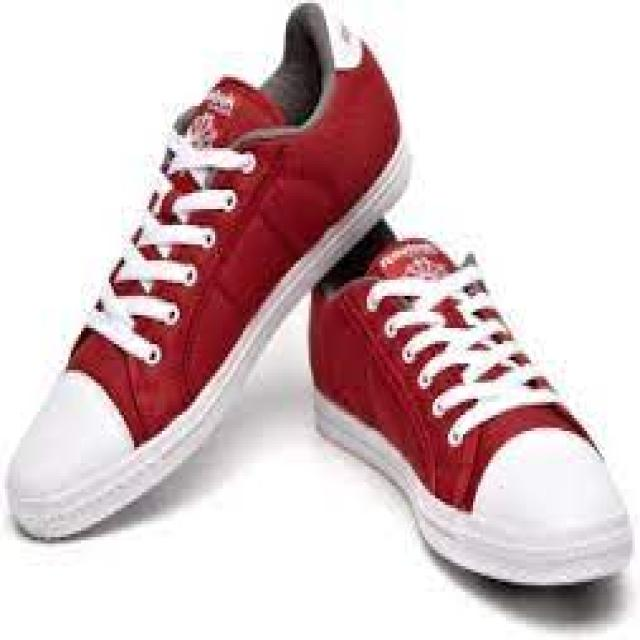shoe: (5, 3, 415, 543), (307, 210, 638, 591)
